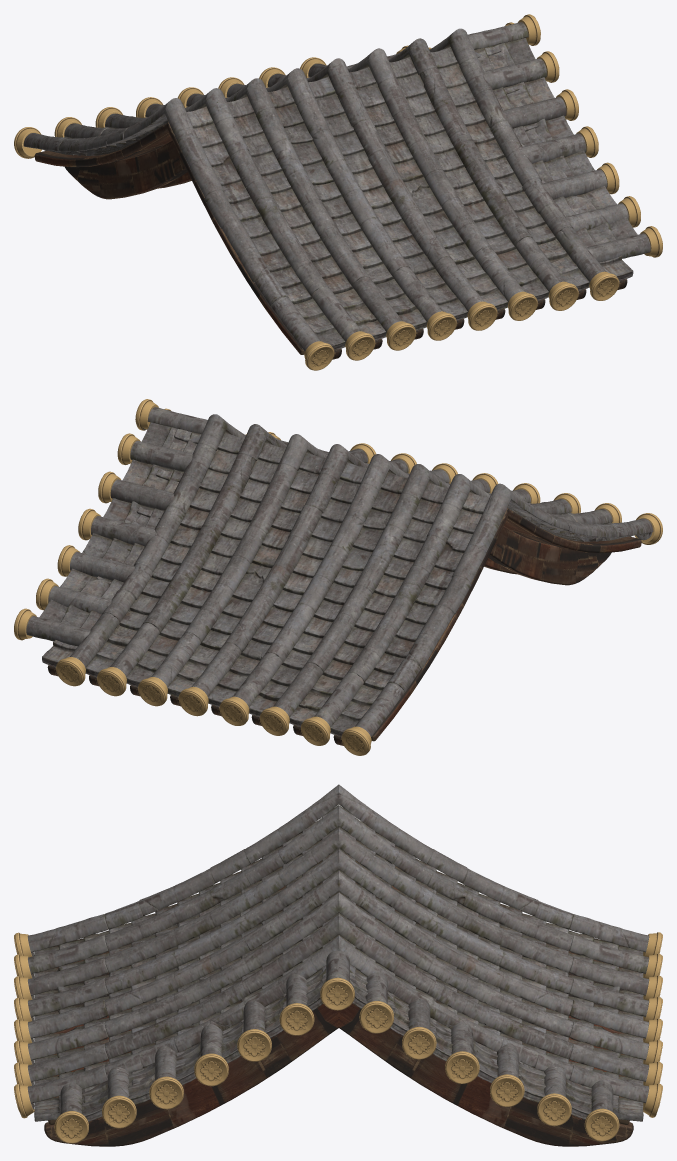
File: japan_roof.glb
3 renders of one model, top to bottom at view 1: azimuth 30°, elevation 25°; view 2: azimuth 150°, elevation 25°; view 3: azimuth 270°, elevation 25°, orthographic. The views are drawn at different scales.
Visible parts, largest first — view 1: Object_4, Object_5, Object_7, Object_8; view 2: Object_5, Object_4, Object_7, Object_8; view 3: Object_5, Object_4, Object_7, Object_8, Object_6.
Part boxes in pixels (x1,y1,x2,y2): Object_4: [23, 22, 650, 350]; Object_5: [36, 29, 606, 351]; Object_7: [14, 14, 662, 370]; Object_8: [34, 122, 627, 359]; Object_5: [96, 414, 653, 722]; Object_4: [26, 407, 632, 736]; Object_7: [14, 399, 662, 755]; Object_8: [47, 508, 641, 745]; Object_5: [27, 784, 646, 1109]; Object_4: [34, 784, 648, 1121]; Object_7: [14, 932, 662, 1143]; Object_8: [44, 818, 633, 1146]; Object_6: [30, 916, 108, 1118].
Bounding box in the file's own units: 4.61 × 2.1 × 6.38.
3 materials, 3 textured.
